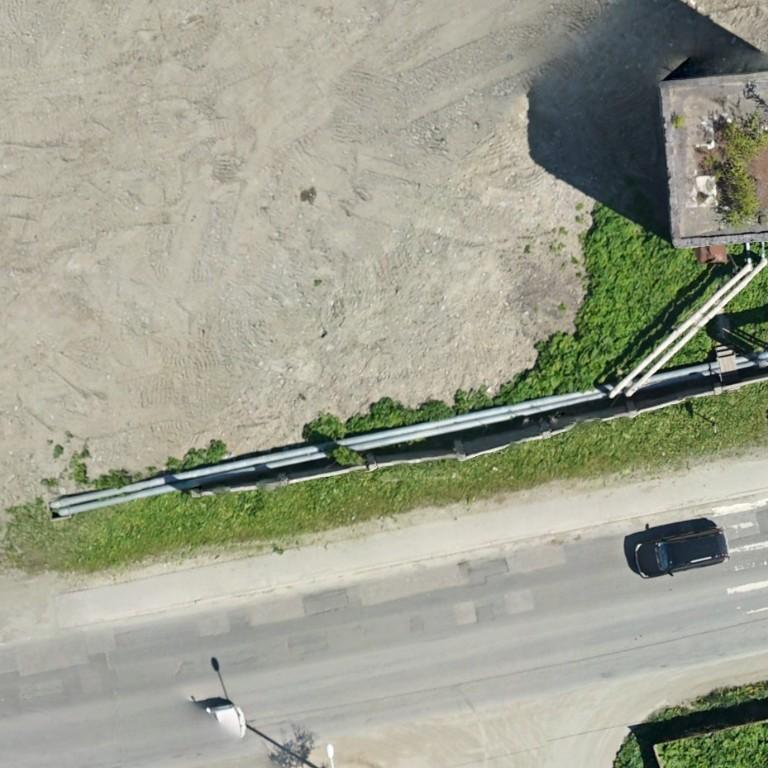hogweed: (500, 205, 723, 404), (304, 398, 454, 443), (657, 724, 767, 767), (724, 265, 767, 347), (659, 327, 712, 372), (165, 444, 227, 475)
